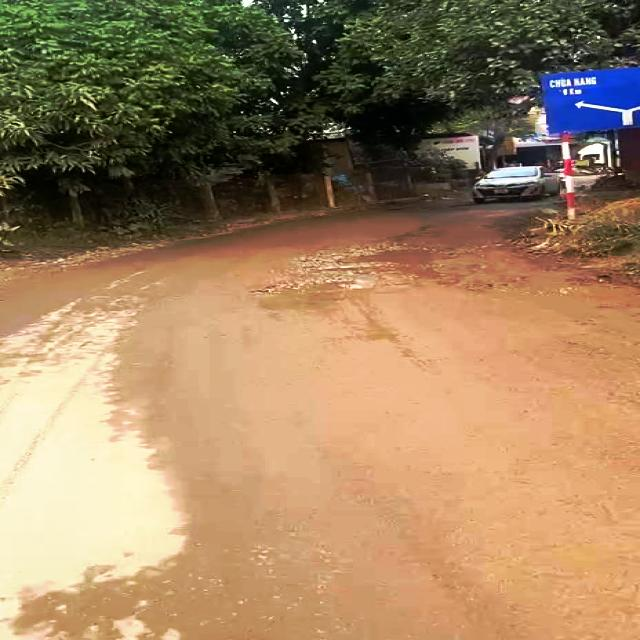pothole: (299, 246, 444, 274), (274, 277, 374, 299)
